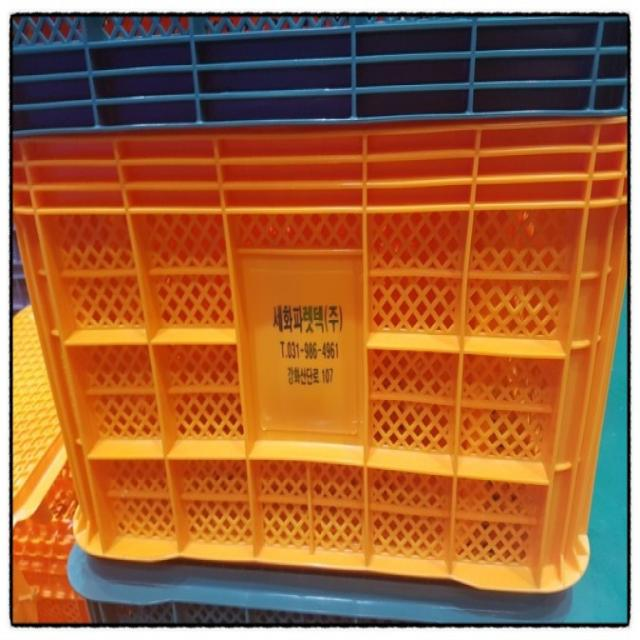basket: (10, 14, 631, 594), (66, 310, 630, 626), (12, 462, 87, 624), (10, 306, 61, 499)
